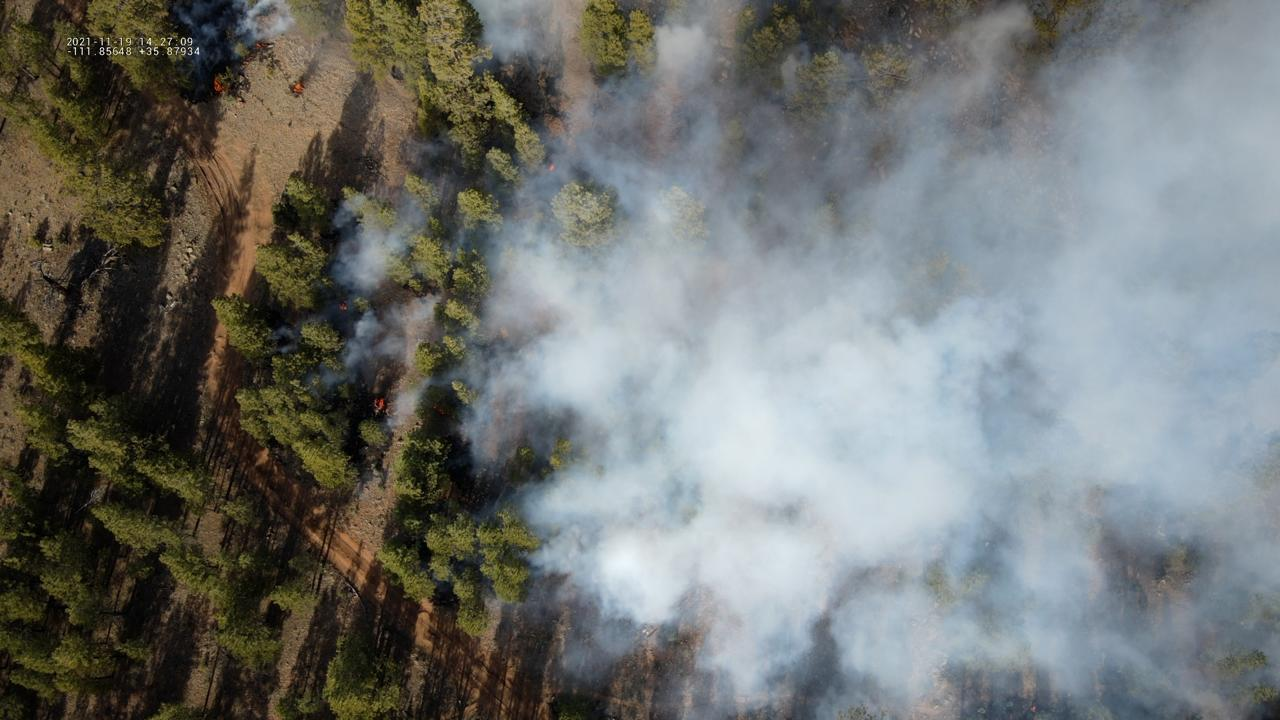fire: (211, 76, 225, 93), (371, 396, 385, 412), (431, 404, 447, 416), (291, 82, 304, 93), (338, 302, 349, 313), (547, 163, 556, 173), (255, 42, 264, 50), (1030, 706, 1037, 713)
smoke: (301, 0, 1280, 720), (169, 0, 298, 94), (267, 323, 302, 357)
